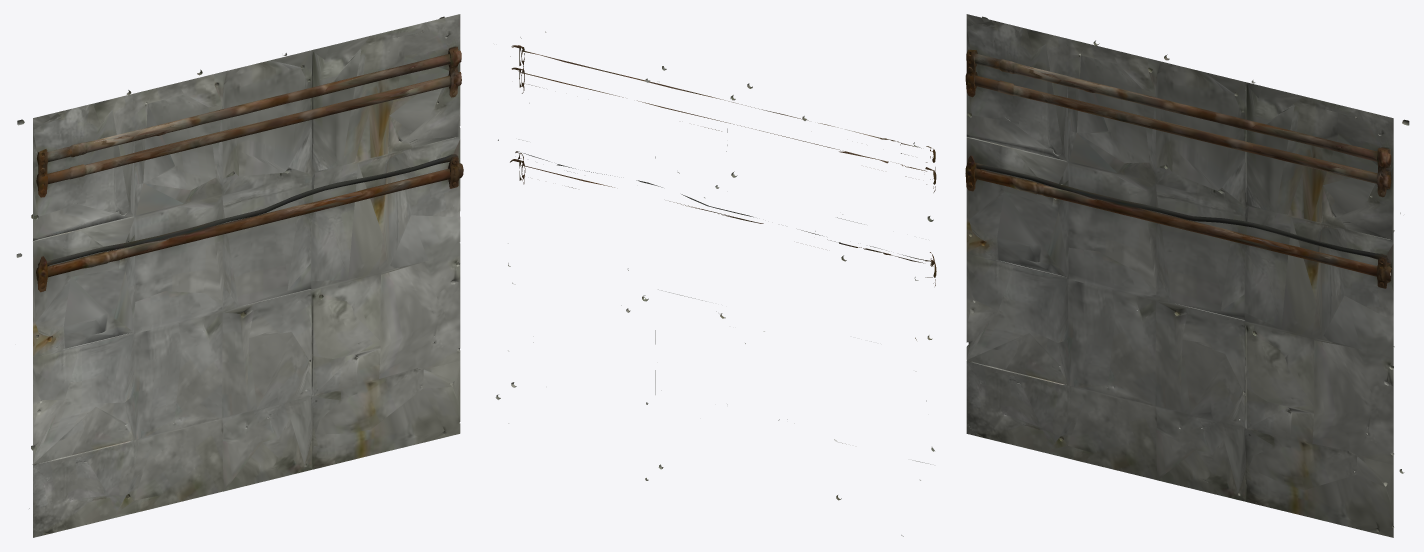
File: room_bunker_wall_1_idle.glb
The picture shows the model from 3 angles, left to right: view 1: azimuth 30°, elevation 25°; view 2: azimuth 150°, elevation 25°; view 3: azimuth 330°, elevation 25°; orthographic projection.
Visible parts, largest first — view 1: tripo_node_005fb5b3-d548-49e2-920a-7b3cc7a13171; view 2: tripo_node_005fb5b3-d548-49e2-920a-7b3cc7a13171; view 3: tripo_node_005fb5b3-d548-49e2-920a-7b3cc7a13171.
Part boxes in pixels (left/top/right/bottom): tripo_node_005fb5b3-d548-49e2-920a-7b3cc7a13171: left=16, top=14, right=463, bottom=537; tripo_node_005fb5b3-d548-49e2-920a-7b3cc7a13171: left=495, top=31, right=936, bottom=536; tripo_node_005fb5b3-d548-49e2-920a-7b3cc7a13171: left=965, top=14, right=1409, bottom=537.
Bounding box in the file's own units: 3.2 × 3 × 0.2993.
1 material, 1 textured.
